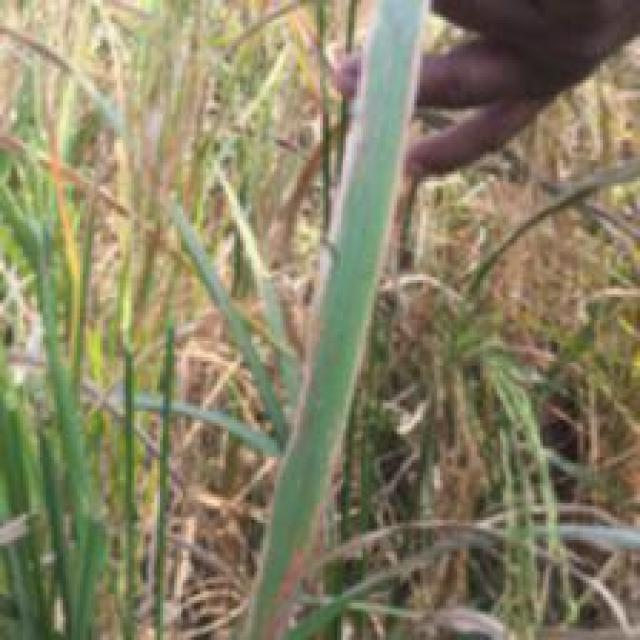Rice_Bacterial_Blight: (274, 6, 386, 526)
